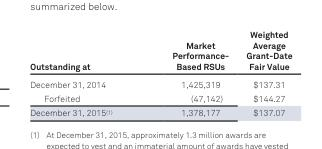table: (29, 28, 291, 117)
table column: (29, 28, 141, 117), (141, 28, 236, 117), (236, 28, 291, 117)
table column header: (29, 28, 291, 74)
table row: (29, 28, 291, 74), (29, 74, 291, 91), (29, 91, 291, 105), (29, 105, 291, 117)
